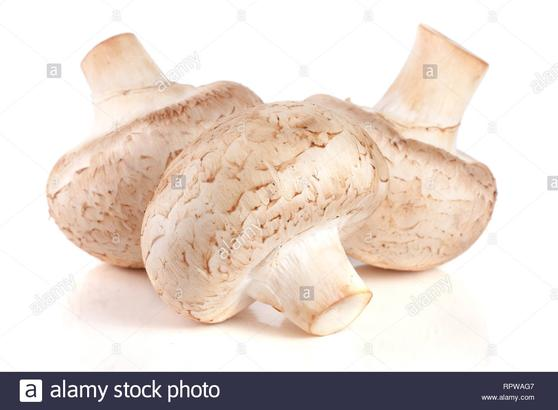champignon: (133, 108, 374, 328), (309, 28, 509, 266), (47, 60, 259, 278)
